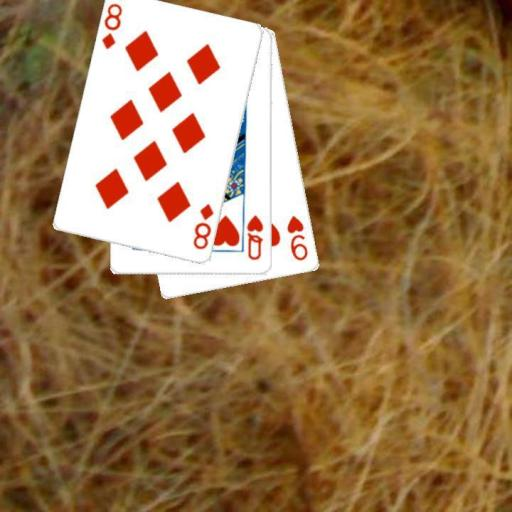card-corner: (284, 212, 310, 262), (190, 200, 215, 252), (99, 0, 124, 51), (244, 212, 265, 262)
